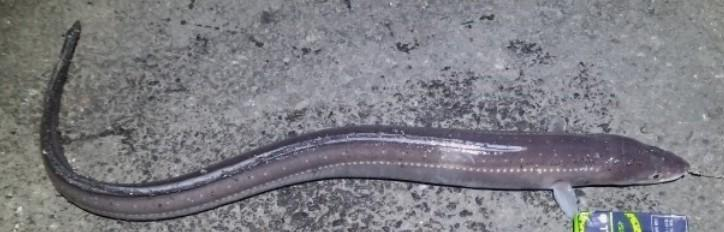fish: (42, 22, 688, 220)
